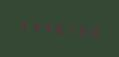four: (29, 17, 40, 35), (41, 18, 52, 36), (17, 17, 28, 34)
seven: (65, 20, 76, 38)
six: (53, 19, 64, 37), (77, 21, 88, 39)
zero: (89, 22, 100, 39)
